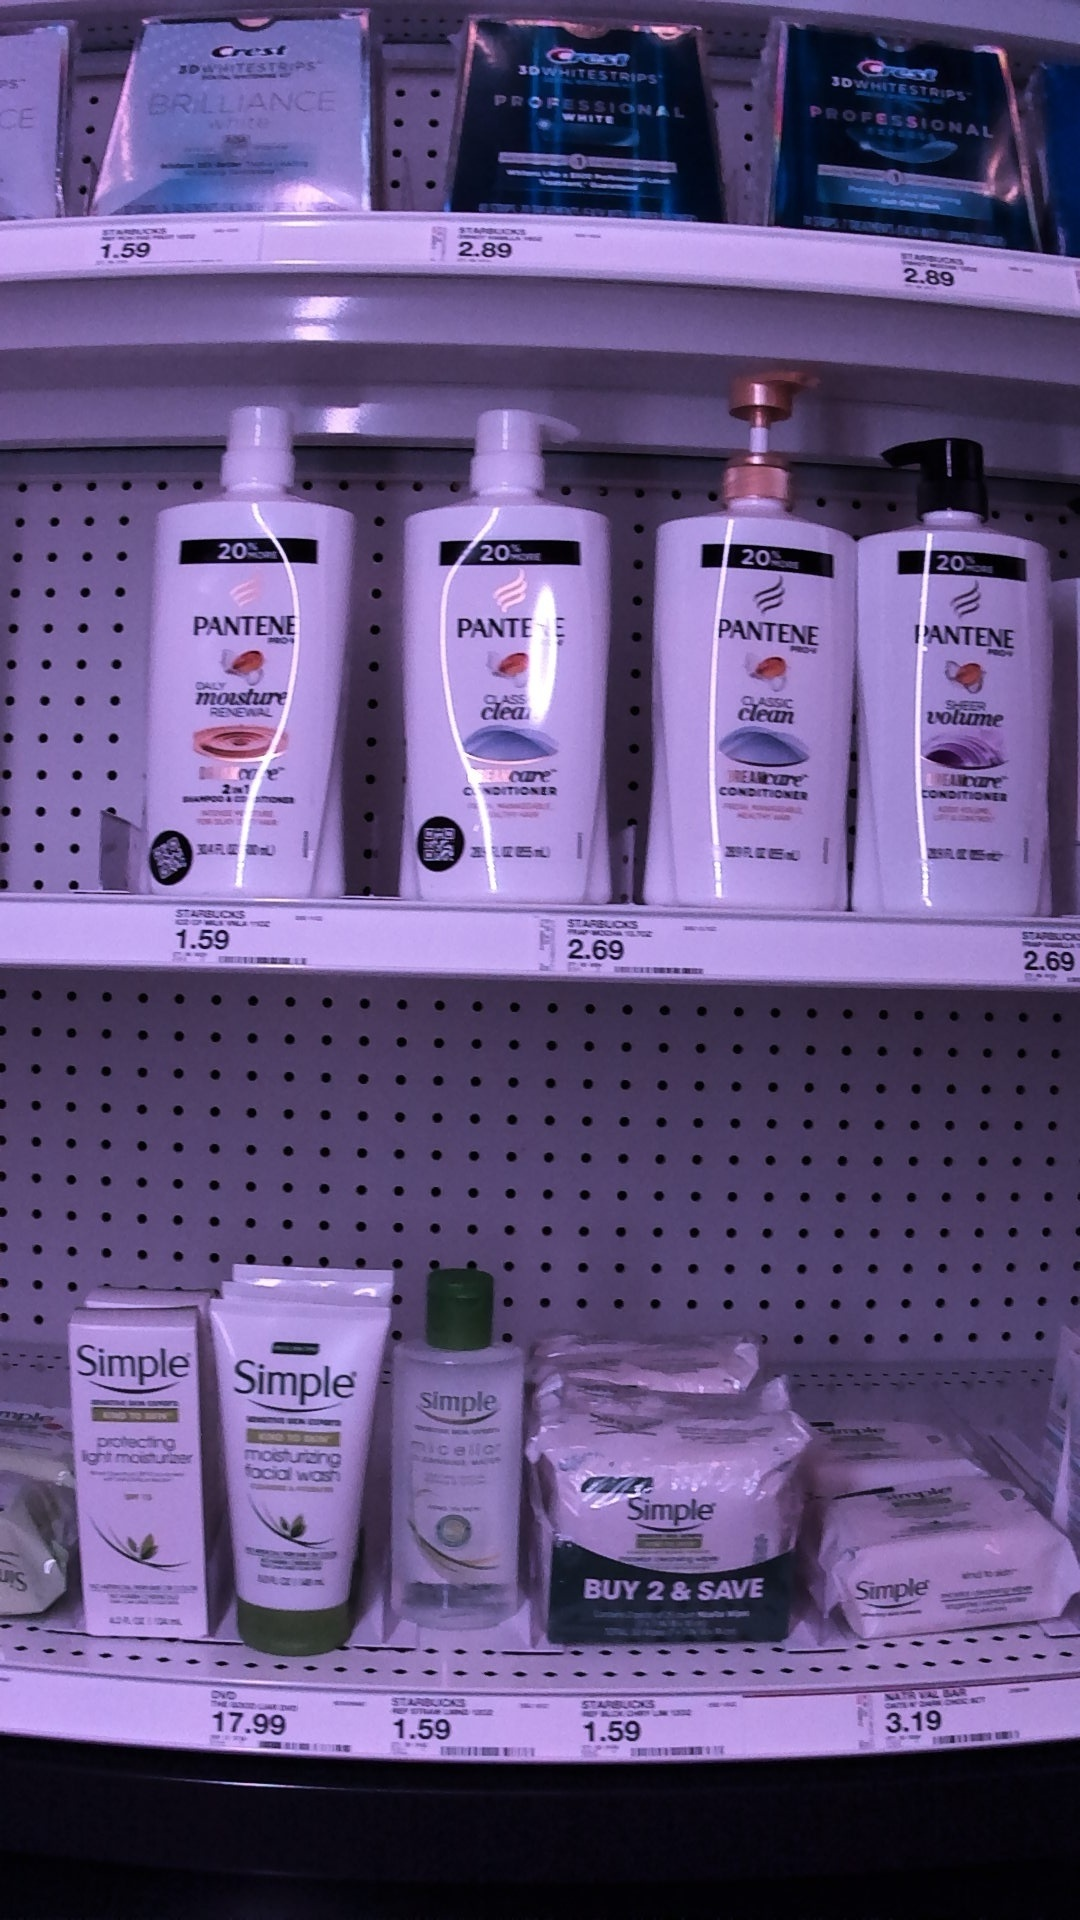ptag: (200, 1683, 357, 1768), (535, 915, 717, 986), (160, 902, 331, 977), (571, 1700, 746, 1771), (855, 1683, 1031, 1753), (389, 1695, 542, 1774), (98, 211, 266, 282), (422, 215, 568, 282), (880, 235, 998, 311), (1004, 926, 1080, 989)
